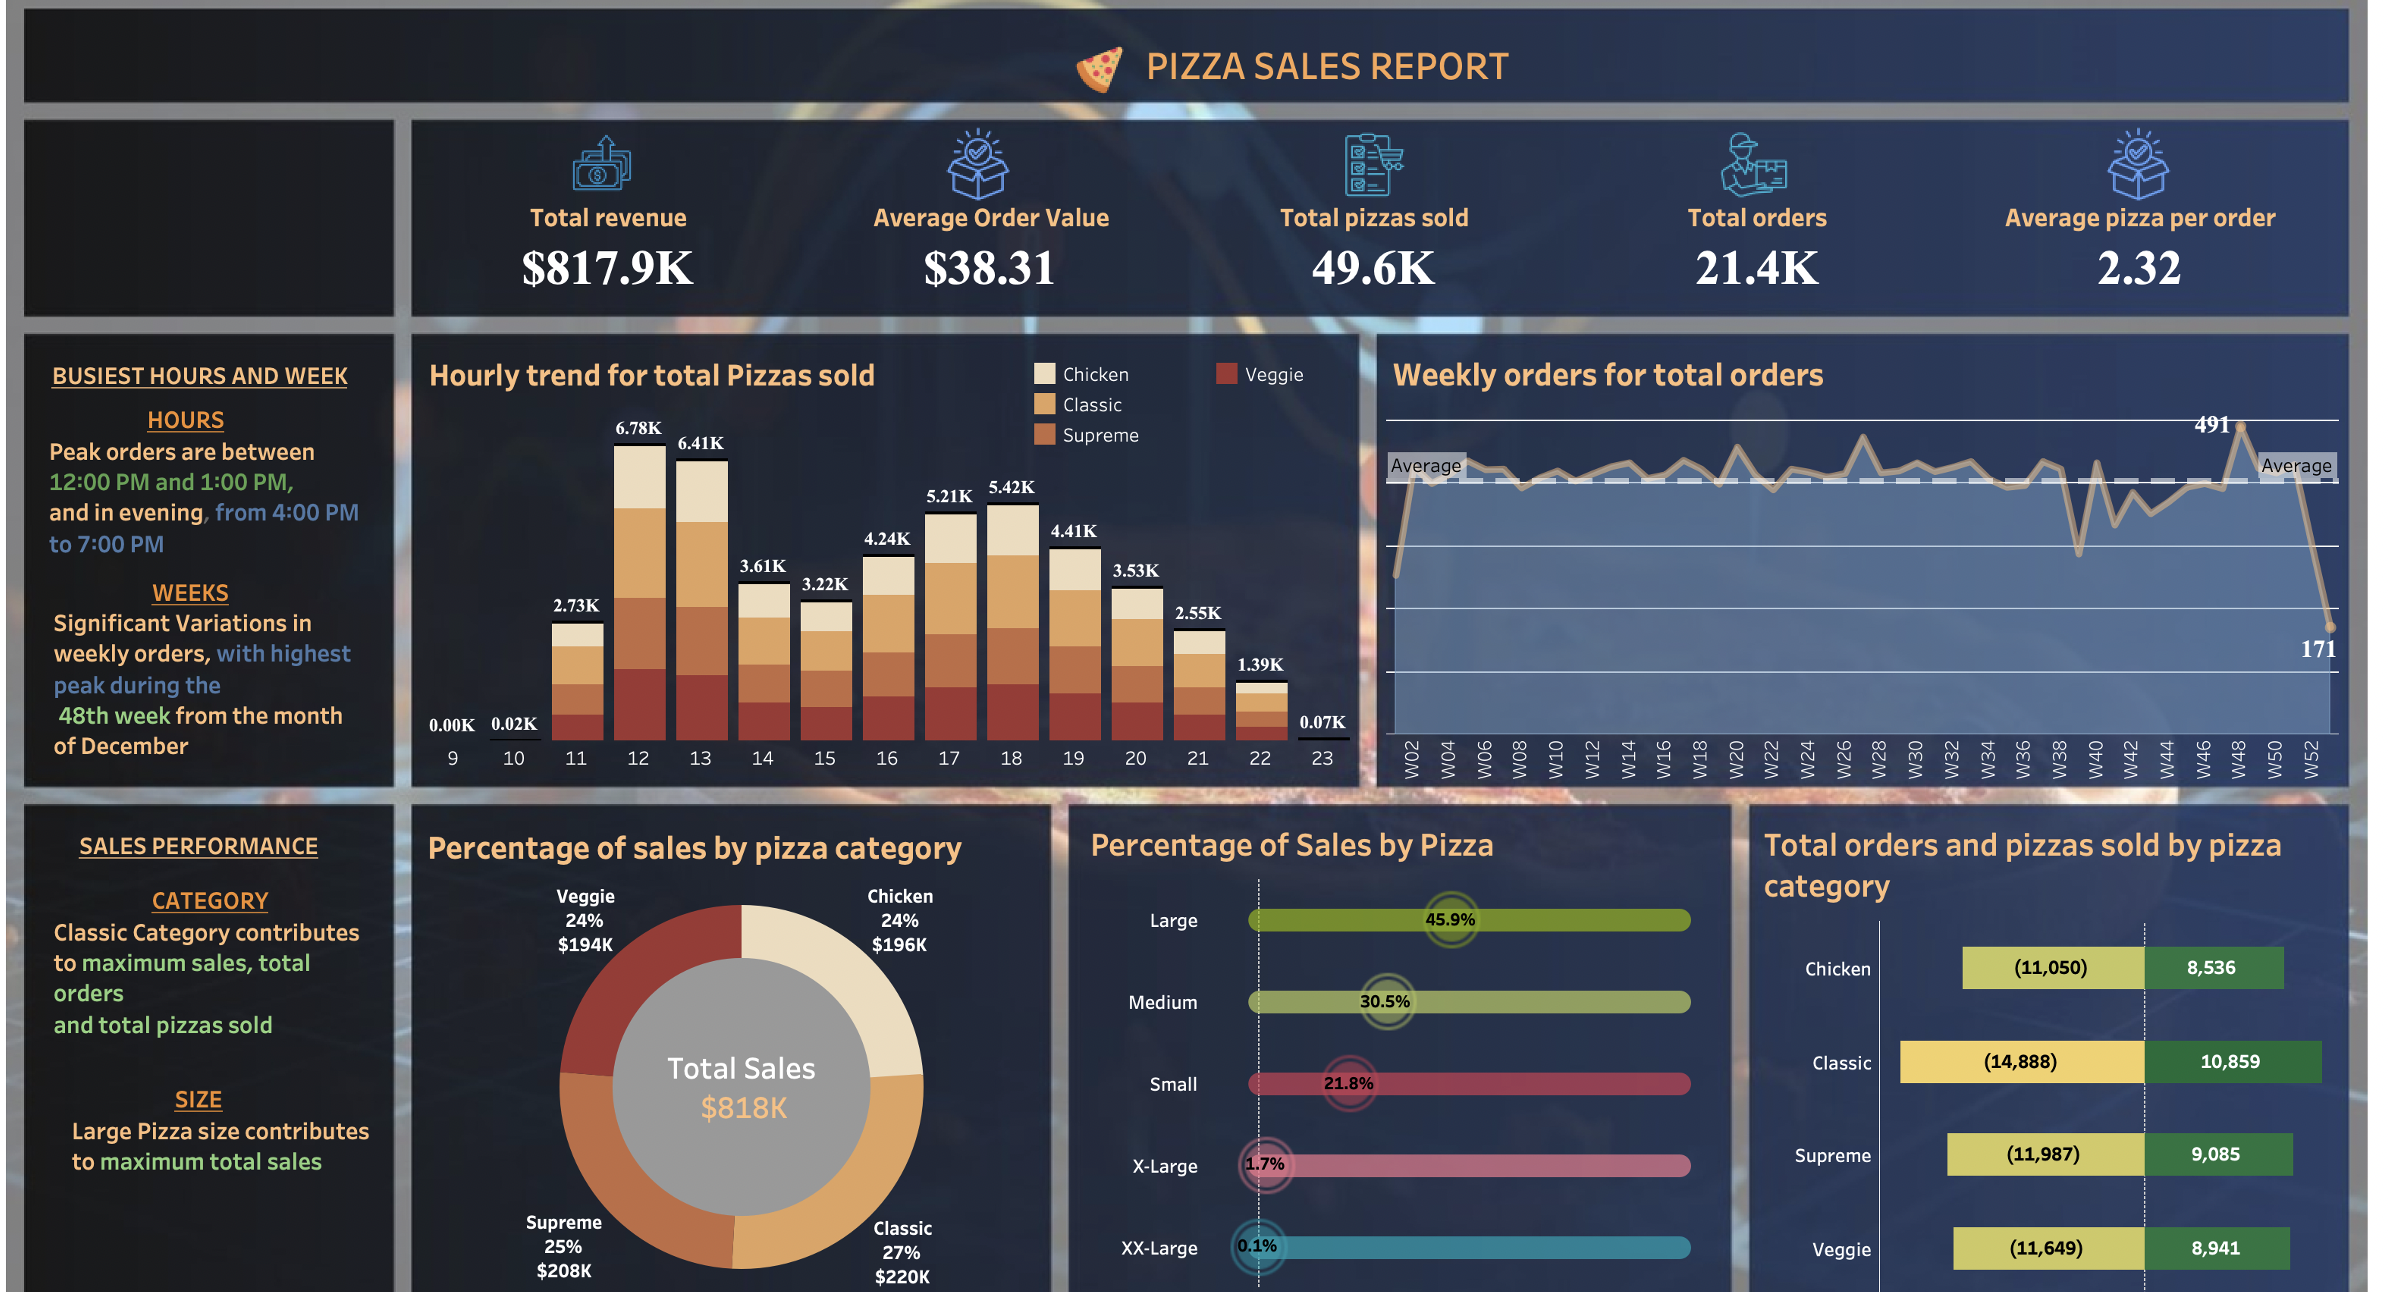

The page's visual inventory and layout, read from the dashboard file:
{"tool":"tableau","page":{"name":"Dashboard 1","canvas":[1600,900],"ordinal":0},"visuals":[{"type":"image","param":"/Users/shrutiparulekar/Desktop/PROJECTS/Pizza Tableau 1.jpeg","box":[8,8,1584,884]},{"type":"text","box":[770,42,245,33]},{"type":"image","param":"/Users/shrutiparulekar/Desktop/PROJECTS/Pizza Sales Images/pizza-slice.png","box":[726,46,42,32]},{"type":"image","param":"/Users/shrutiparulekar/Desktop/PROJECTS/Pizza Sales Images/order (1).png","box":[638,100,65,48]},{"type":"image","param":"/Users/shrutiparulekar/Desktop/PROJECTS/Pizza Sales Images/order (1).png","box":[1403,100,48,50]},{"type":"image","param":"/Users/shrutiparulekar/Desktop/PROJECTS/Pizza Sales Images/profit-growth.png","box":[392,101,47,44]},{"type":"image","param":"/Users/shrutiparulekar/Desktop/PROJECTS/Pizza Sales Images/delivery-man.png","box":[1151,102,49,45]},{"type":"image","param":"/Users/shrutiparulekar/Desktop/PROJECTS/Pizza Sales Images/order-delivery.png","box":[902,103,77,43]},{"type":"worksheet","title":"KPI Banner","mark":"Automatic","box":[292,130,1263,86]},{"type":"worksheet","title":"Weekly orders for total orders","mark":"Area","rows":["Calculation_112660360312373250","Calculation_112660360312373250"],"cols":["order_date"],"box":[931,242,628,289]},{"type":"worksheet","title":"Hourly trend for total Pizzas sold ","mark":"Bar","rows":["Calculation_112660360314257412","Calculation_112660360314257412"],"cols":["order_time"],"box":[296,243,614,282]},{"type":"text","box":[49,248,214,30]},{"type":"legend","title":"Hourly trend for total Pizzas sold ","param":"[federated.1mc4udc0980obz1152tjc17oy5ny].[none:pizza_category:nk]","box":[696,252,207,64]},{"type":"text","box":[47,282,221,105]},{"type":"text","box":[50,381,212,155]},{"type":"worksheet","title":"Sheet 5","mark":"Line","rows":["pizza_size"],"box":[732,552,414,313]},{"type":"worksheet","title":"Total orders and pizzas sold by pizza category  ","mark":"Automatic","rows":["pizza_category"],"box":[1176,552,386,318]},{"type":"worksheet","title":"Percentage of sales by pizza category","mark":"Pie","rows":["Calculation_6965168668701347841","Calculation_6965168668702048261"],"box":[295,554,422,315]},{"type":"text","box":[67,558,214,30]},{"type":"text","box":[50,599,221,105]},{"type":"text","box":[62,709,209,105]}]}

Visuals, with their boxes on the page's 1600x900 design canvas (x1, y1, x2, y2). These are canvas units, not pixel positions in the 2388x1292 screenshot, which may show the page scaled, cropped or inside an application window:
image: 8,8,1592,892
text: 770,42,1015,75
image: 726,46,768,78
image: 638,100,703,148
image: 1403,100,1451,150
image: 392,101,439,145
image: 1151,102,1200,147
image: 902,103,979,146
"KPI Banner" worksheet: 292,130,1555,216
"Weekly orders for total orders" worksheet (Area marks): 931,242,1559,531
"Hourly trend for total Pizzas sold " worksheet (Bar marks): 296,243,910,525
text: 49,248,263,278
"Hourly trend for total Pizzas sold " legend: 696,252,903,316
text: 47,282,268,387
text: 50,381,262,536
"Sheet 5" worksheet (Line marks): 732,552,1146,865
"Total orders and pizzas sold by pizza category  " worksheet: 1176,552,1562,870
"Percentage of sales by pizza category" worksheet (Pie marks): 295,554,717,869
text: 67,558,281,588
text: 50,599,271,704
text: 62,709,271,814
